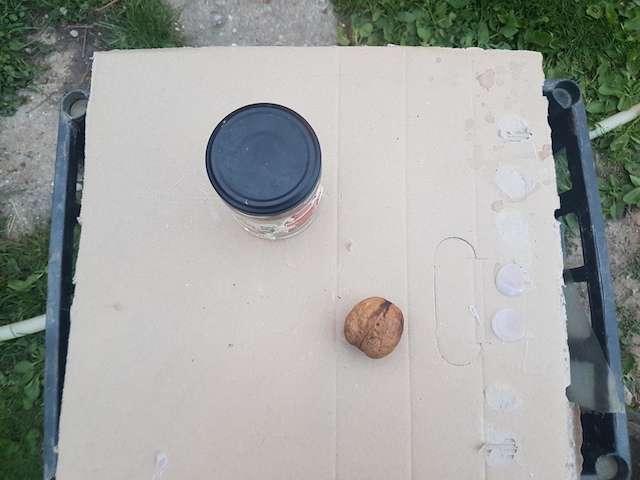nut: (338, 290, 407, 361)
recipient: (204, 102, 325, 215)
